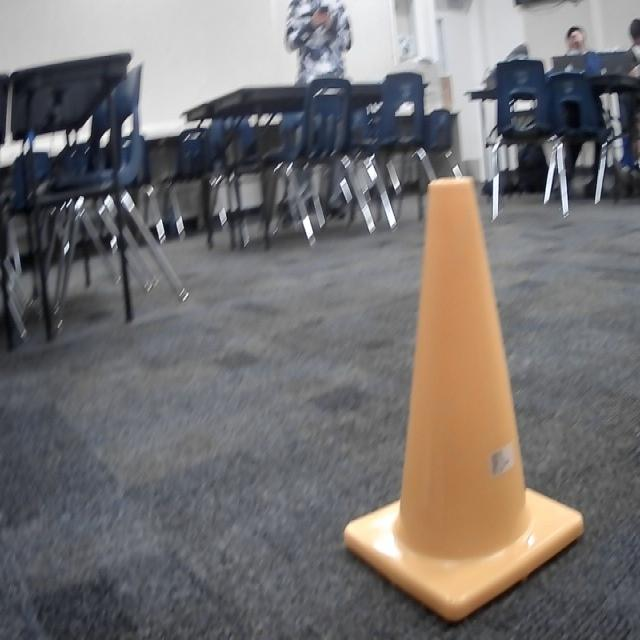cone: (342, 176, 584, 625)
